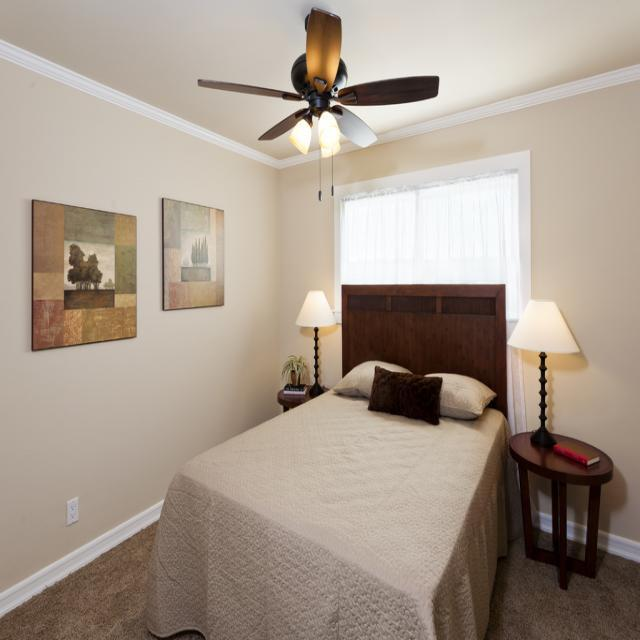fan_off: (194, 6, 432, 139)
